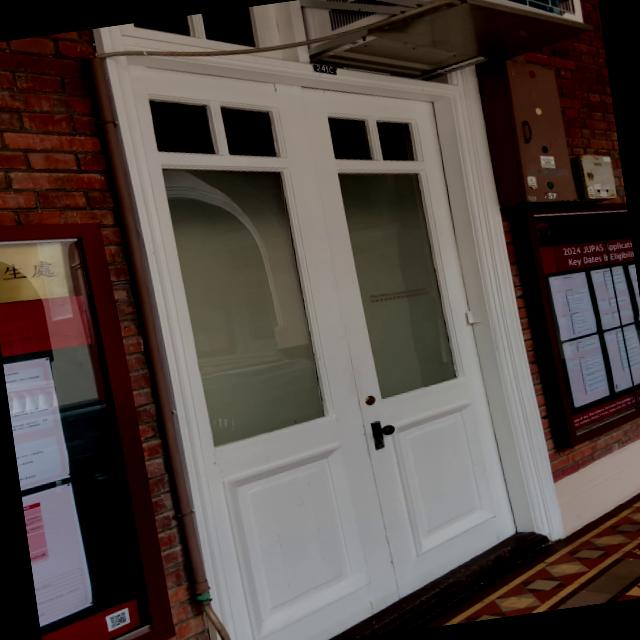room241c: (309, 59, 339, 79)
